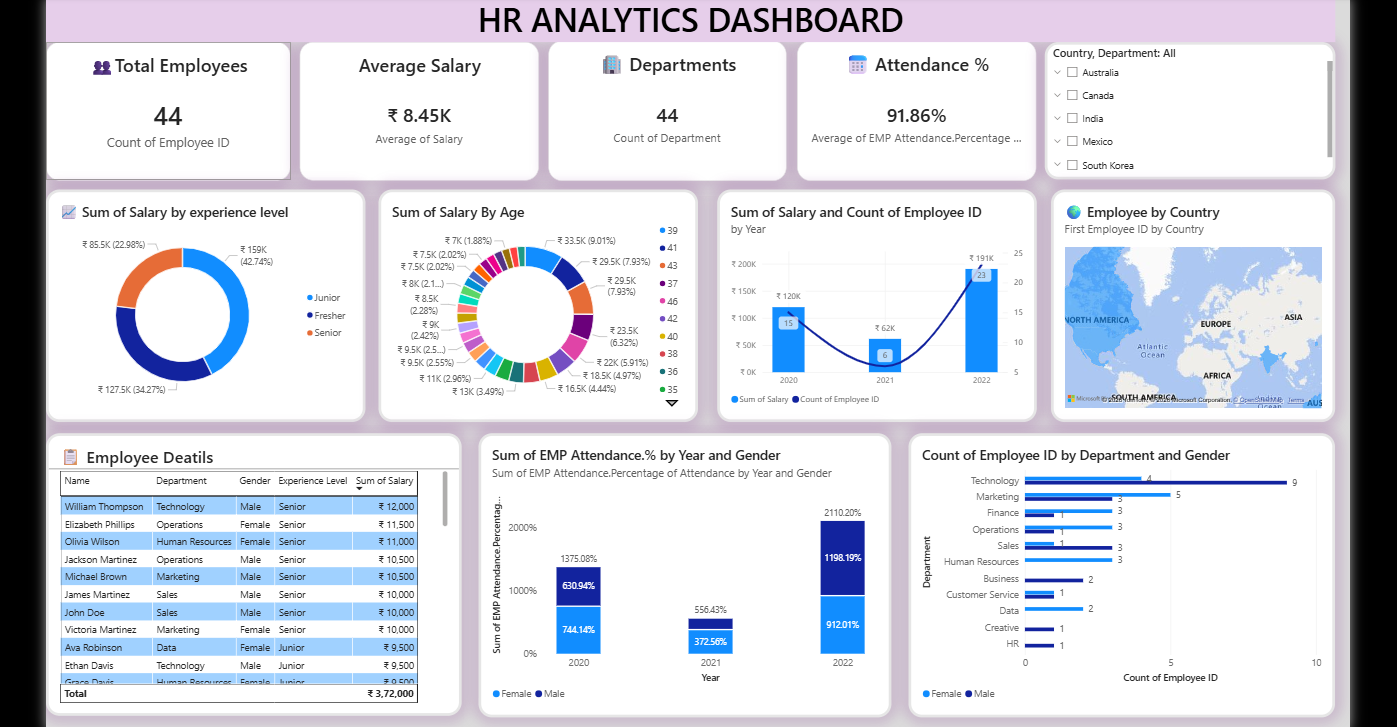

The dashboard page shown, as its layout file describes it:
{"tool":"powerbi","page":{"name":"Page 2","canvas":[1920,1080],"ordinal":0},"visuals":[{"type":"card","title":"👥Total Employees","fields":{"Values":["Count(Employee Detail Attendence.Employee ID)"]},"box":[0,66,360,204],"z":0},{"type":"card","title":"Average Salary","fields":{"Values":["Avg(Employee Detail Attendence.Salary)"]},"box":[374,66,352,204],"z":1000},{"type":"card","title":"🏢 Departments","fields":{"Values":["CountNonNull(Employee Detail Attendence.Department)"]},"box":[740,64,350,206],"z":2000},{"type":"card","title":"📅 Attendance %","fields":{"Values":["Avg(Employee Detail Attendence.EMP Attendance.Percentage of Attendance)"]},"box":[1106,64,352,206],"z":3000},{"type":"slicer","fields":{"Values":["Employee Detail Attendence.Country","Employee Detail Attendence.Department"]},"box":[1470,66,428,202],"z":4000},{"type":"filledMap","title":"🌍 Employee by Country","fields":{"Category":["Employee Detail Attendence.Country"]},"box":[1480,284,418,342],"z":5000},{"type":"donutChart","title":"📈 Sum of Salary by experience level","fields":{"Category":["Employee Detail Attendence.Experience Level"],"Y":["Sum(Employee Detail Attendence.Salary)"]},"box":[0,284,470,342],"z":6000},{"type":"donutChart","title":"Sum of Salary By Age","fields":{"Category":["Employee Detail Attendence.Age"],"Y":["Sum(Employee Detail Attendence.Salary)"]},"box":[490,284,470,342],"z":7000},{"type":"lineClusteredColumnComboChart","fields":{"Category":["Employee Detail Attendence.Date of Join.Variation.Date Hierarchy.Year"],"Y":["Sum(Employee Detail Attendence.Salary)"],"Y2":["CountNonNull(Employee Detail Attendence.Employee ID)"]},"box":[988,284,470,342],"z":8000},{"type":"columnChart","title":"Sum of EMP Attendance.% by Year and Gender","fields":{"Category":["Employee Detail Attendence.Date of Join.Variation.Date Hierarchy.Year"],"Series":["Employee Detail Attendence.Gender"],"Y":["Sum(Employee Detail Attendence.EMP Attendance.Percentage of Attendance)"]},"box":[636,642,608,418],"z":9000},{"type":"clusteredBarChart","fields":{"Category":["Employee Detail Attendence.Department"],"Series":["Employee Detail Attendence.Gender"],"Y":["CountNonNull(Employee Detail Attendence.Employee ID)"]},"box":[1270,642,628,418],"z":10000},{"type":"tableEx","title":"📋 Employee Deatils","fields":{"Values":["Employee Detail Attendence.Name","Employee Detail Attendence.Department","Employee Detail Attendence.Gender","Employee Detail Attendence.Experience Level","Sum(Employee Detail Attendence.Salary)"]},"box":[0,642,612,416],"z":11000},{"type":"textbox","title":"HR ANALYTICS DASHBOARD","box":[0,0,1898,66],"z":11001}]}

Visuals, with their boxes in screenshot pixels (x1, y1, x2, y2):
"👥Total Employees" card: [40, 31, 288, 171]
"Average Salary" card: [298, 31, 540, 171]
"🏢 Departments" card: [550, 30, 791, 171]
"📅 Attendance %" card: [802, 30, 1044, 171]
slicer - Employee Detail Attendence.Country x Employee Detail Attendence.Department: [1053, 31, 1347, 170]
"🌍 Employee by Country" filledMap: [1059, 181, 1347, 417]
"📈 Sum of Salary by experience level" donutChart: [40, 181, 364, 417]
"Sum of Salary By Age" donutChart: [378, 181, 701, 417]
lineClusteredColumnComboChart - Employee Detail Attendence.Date of Join.Variation.Date Hierarchy.Year x Sum(Employee Detail Attendence.Salary): [721, 181, 1044, 417]
"Sum of EMP Attendance.% by Year and Gender" columnChart: [478, 428, 897, 716]
clusteredBarChart - Employee Detail Attendence.Department x Employee Detail Attendence.Gender: [915, 428, 1347, 716]
"📋 Employee Deatils" tableEx: [40, 428, 462, 714]
"HR ANALYTICS DASHBOARD" textbox: [40, 0, 1347, 31]
